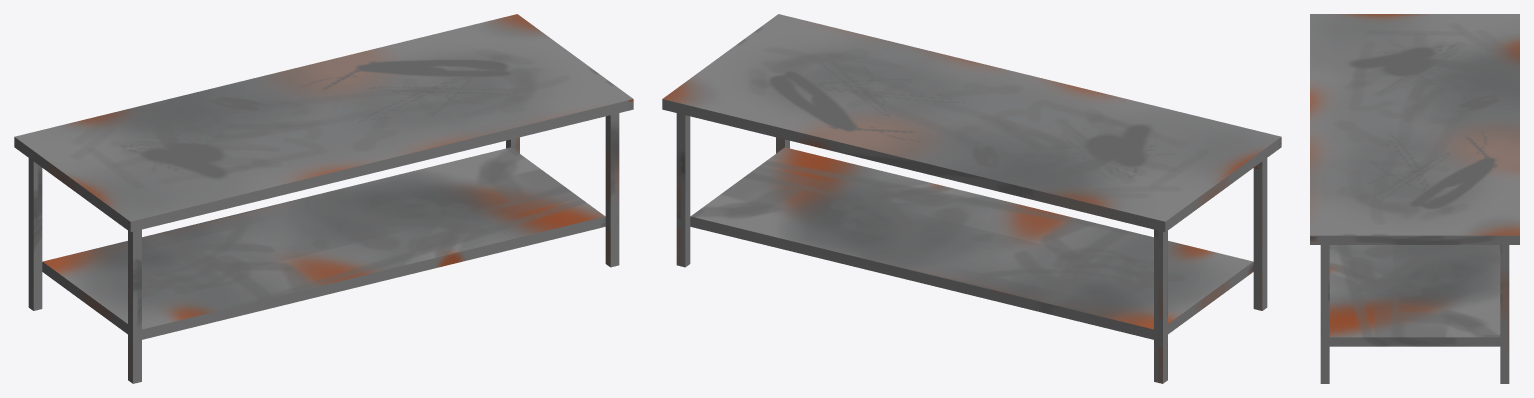
File: Table.fbx
3 views of the same model, side by side, from view 1: azimuth 30°, elevation 25°; view 2: azimuth 150°, elevation 25°; view 3: azimuth 270°, elevation 25° (orthographic). The views are drawn at different scales.
Parts seen in each view (by area): view 1: Cube; view 2: Cube; view 3: Cube.
Boxes of the visible parts, left/top/right/bottom form: Cube: left=14, top=14, right=633, bottom=383; Cube: left=662, top=14, right=1281, bottom=383; Cube: left=1310, top=14, right=1519, bottom=383.
Size of the model in its own units: 2000 by 640 by 800.
Materials: 1 (1 with a texture image).
